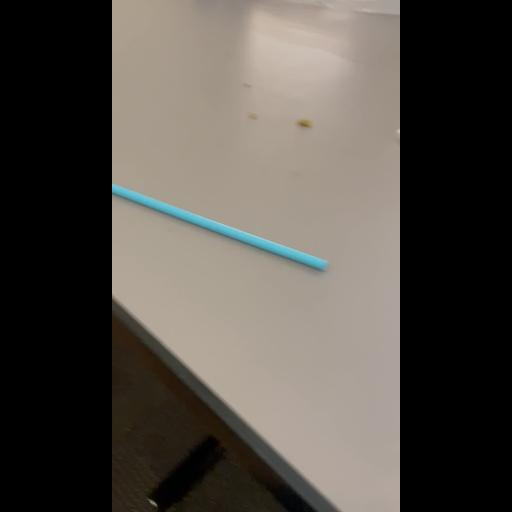straw: (112, 164, 330, 332)
